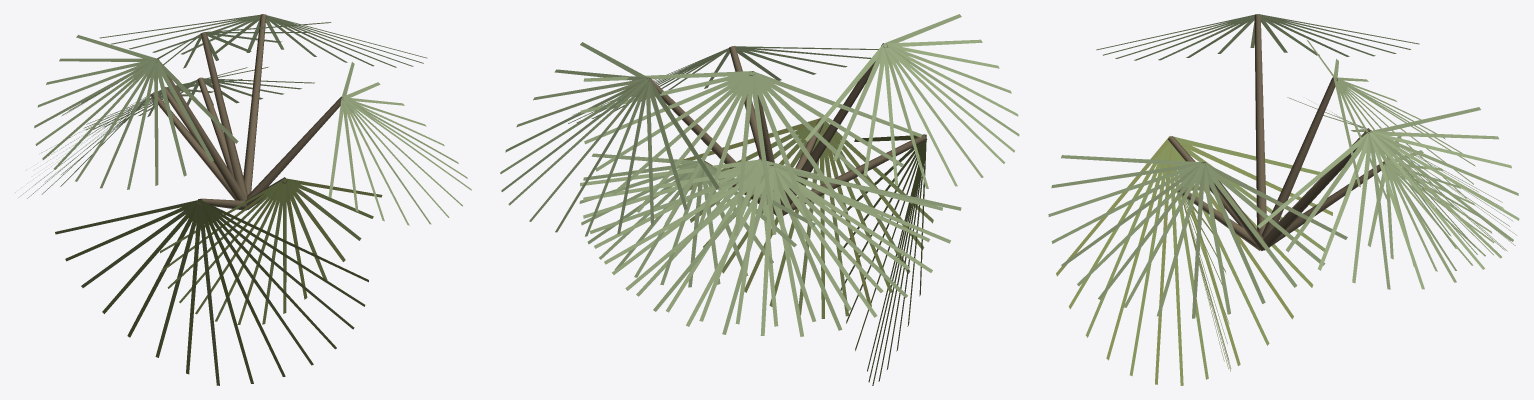
Rendered from palmetto_a.glb.
3 renders of one model, left to right at view 1: azimuth 30°, elevation 25°; view 2: azimuth 150°, elevation 25°; view 3: azimuth 270°, elevation 25°, orthographic. The views are drawn at different scales.
Parts seen in each view (by area): view 1: palmetto_a; view 2: palmetto_a; view 3: palmetto_a.
Part boxes in pixels (box(x1,y1,x2,y2)): palmetto_a: box(15, 14, 471, 385); palmetto_a: box(500, 14, 1019, 385); palmetto_a: box(1048, 14, 1519, 385).
Bounding box in the file's own units: 1.71 × 1.34 × 1.65.
